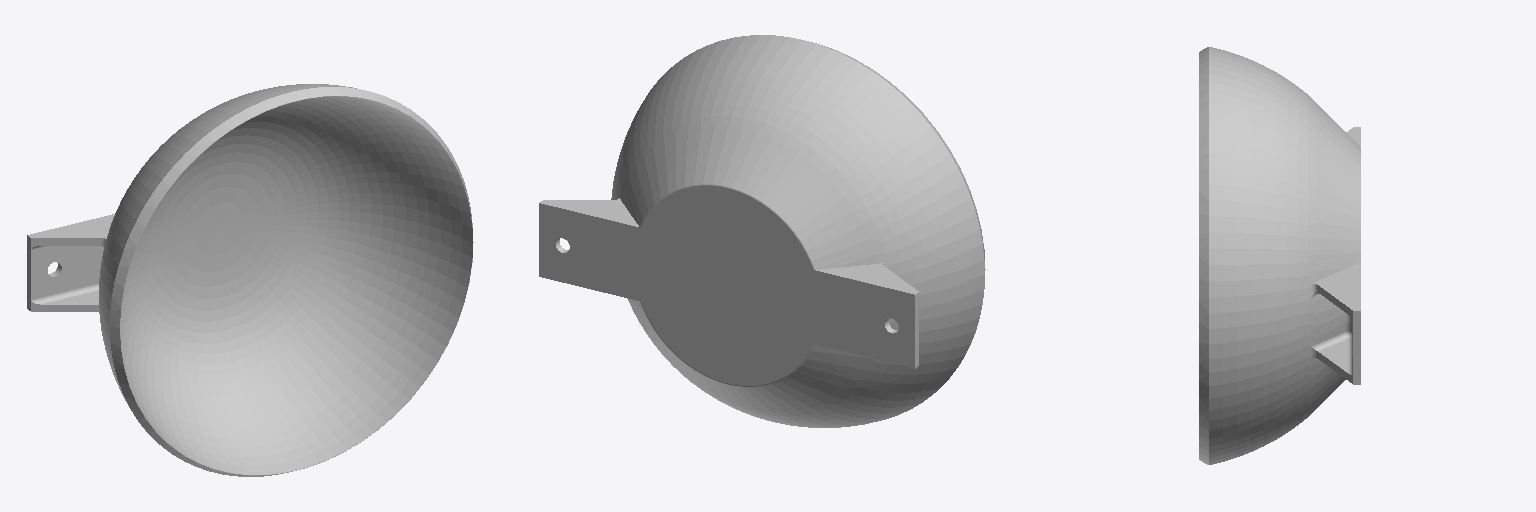
File: s_bowl.obj
3 renders of one model, left to right at view 1: azimuth 30°, elevation 25°; view 2: azimuth 150°, elevation 25°; view 3: azimuth 270°, elevation 25°, orthographic.
Visible parts, largest first — view 1: mesh9; view 2: mesh9; view 3: mesh9.
Part boxes in pixels (left/top/right/bottom): mesh9: left=27, top=84, right=473, bottom=476; mesh9: left=539, top=35, right=985, bottom=427; mesh9: left=1199, top=47, right=1360, bottom=464.
Bounding box in the file's own units: 0.16 × 0.1545 × 0.06.